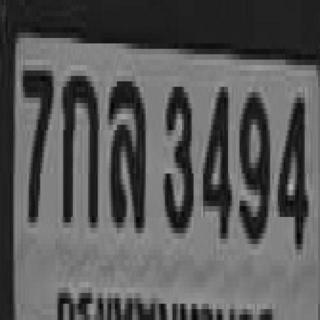A01: (60, 71, 97, 222)
A36: (107, 76, 144, 222)
N03: (161, 81, 192, 228)
N04: (276, 92, 307, 244), (201, 81, 230, 233)
N07: (21, 65, 52, 217)
N09: (238, 87, 268, 239)
